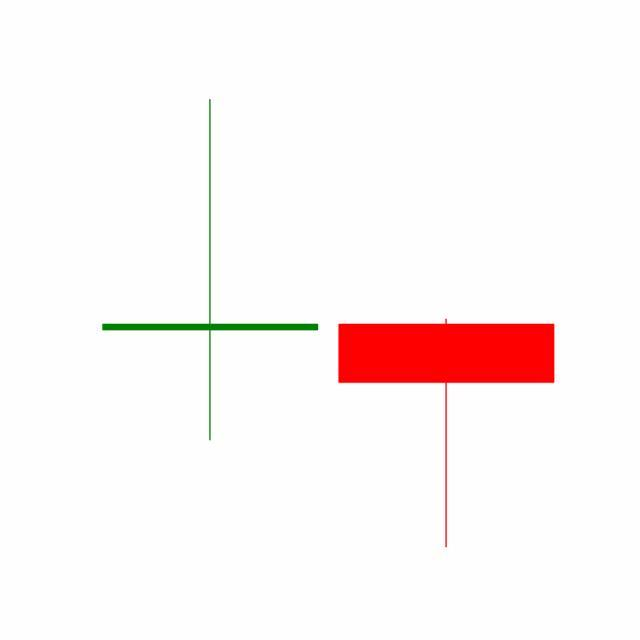Hammer: (328, 316, 566, 551)
